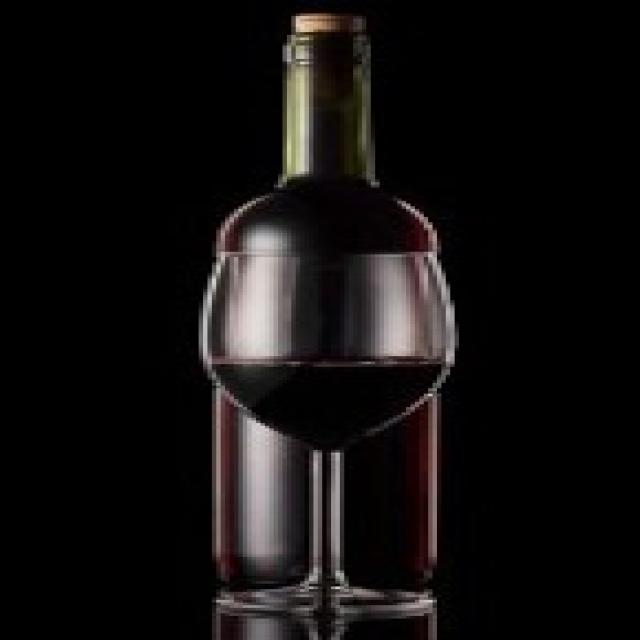electronic: (193, 7, 467, 624), (197, 249, 455, 612)
